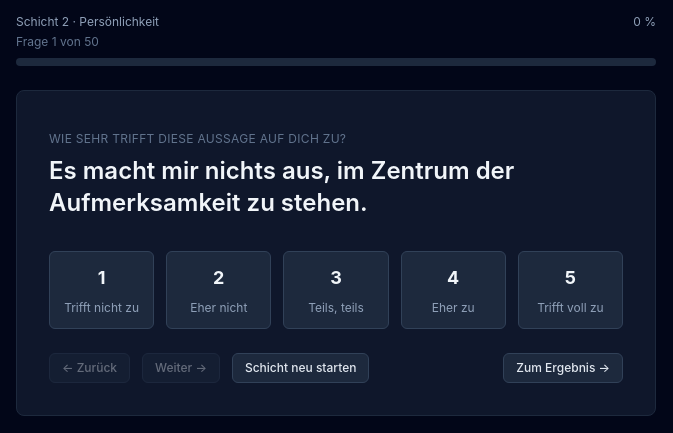
Test case: AssessmentPage › Big Five layer rendering › clicking a Likert button in the Big Five layer records a Big Five answer and advances
Click the button "4 Eher zu" at (453, 290), box [401,251,506,329]
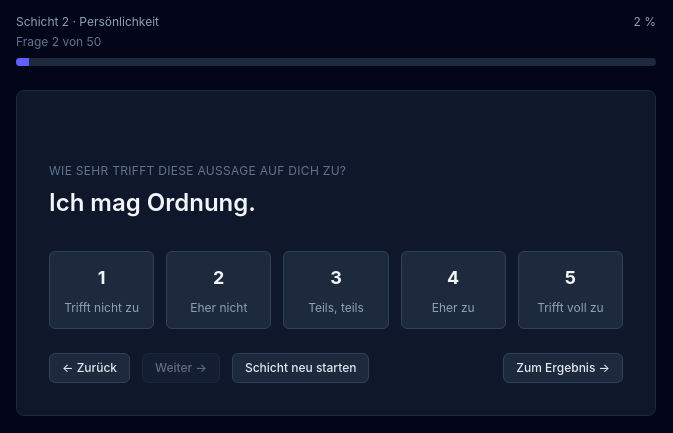
Expected: the text "Frage 2 von 50" is shown, [16,34,101,50]
